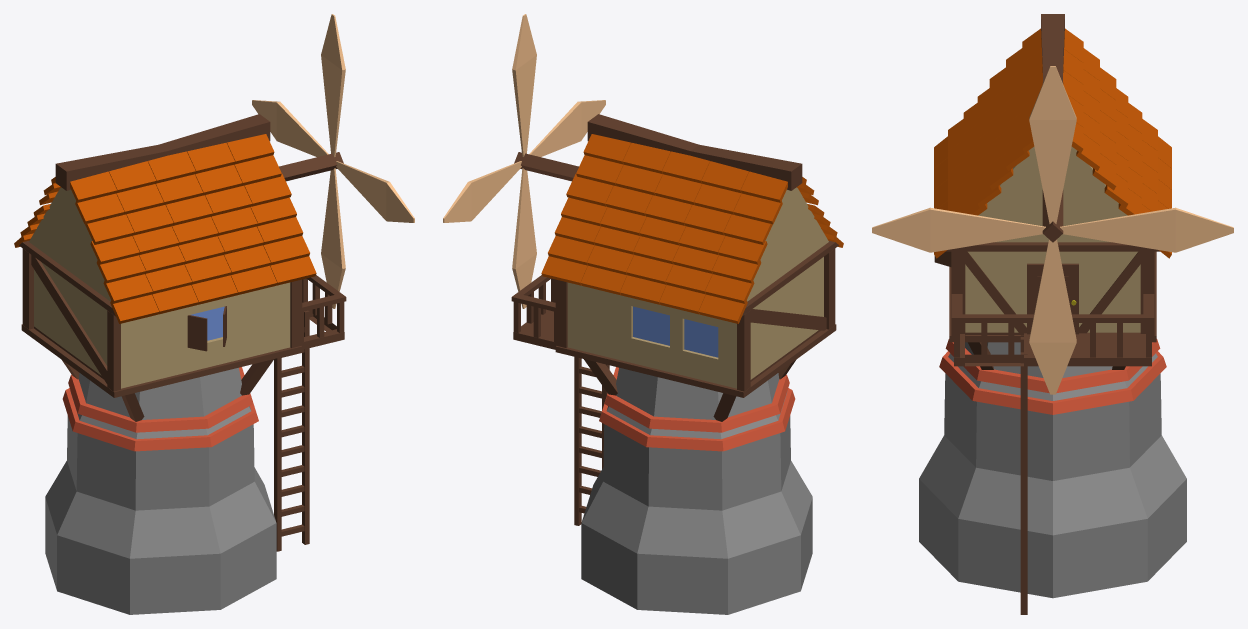
File: scene_5c2kogA9ki.glb
The picture shows the model from 3 angles, left to right: view 1: azimuth 30°, elevation 25°; view 2: azimuth 150°, elevation 25°; view 3: azimuth 270°, elevation 25°; orthographic projection. The views are drawn at different scales.
Parts seen in each view (by area): view 1: Windmill_Cube.002; view 2: Windmill_Cube.002; view 3: Windmill_Cube.002.
Part boxes in pixels (x1,y1,x2,y2): Windmill_Cube.002: (14,14,414,614); Windmill_Cube.002: (443,14,843,614); Windmill_Cube.002: (872,14,1233,614).
Bounding box in the file's own units: 13.61 × 23.44 × 13.5.
